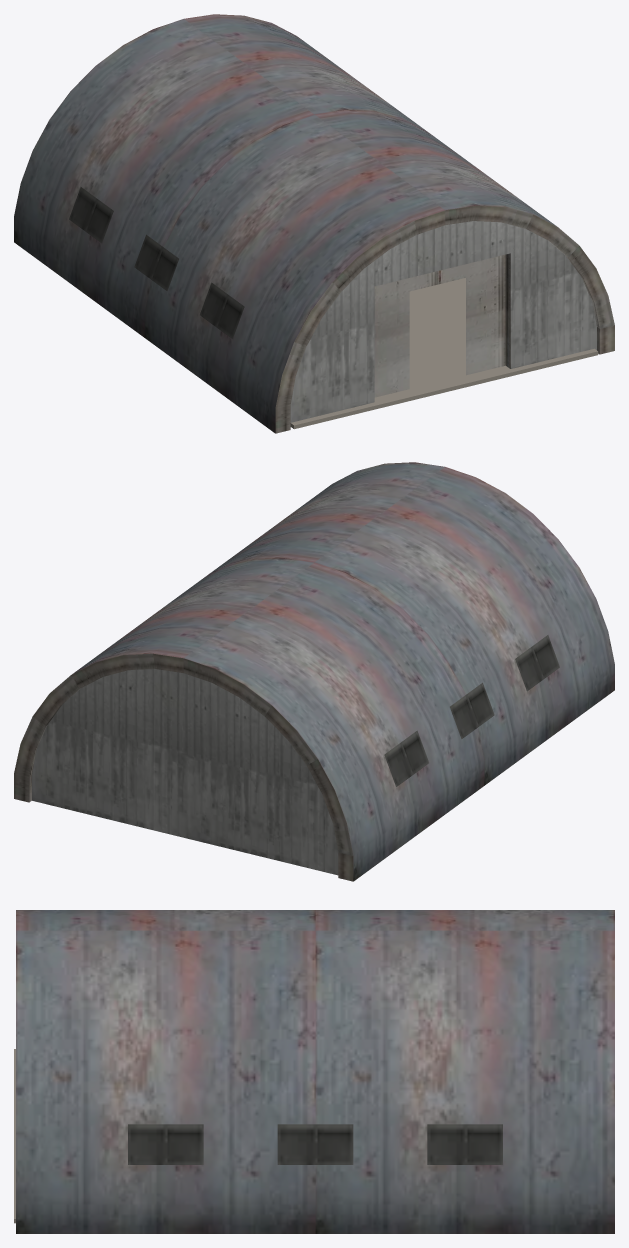
Rendered from rural-quonset.access-v2.lod0.glb.
3 views of the same model, one above another, from view 1: azimuth 30°, elevation 25°; view 2: azimuth 150°, elevation 25°; view 3: azimuth 270°, elevation 25° (orthographic). The views are drawn at different scales.
Visible parts, largest first — view 1: Rural_QuonsetHut_1_Rural_Industrial_Walls_FLR_1_0, Walkable floors and stairs; view 2: Rural_QuonsetHut_1_Rural_Industrial_Walls_FLR_1_0; view 3: Rural_QuonsetHut_1_Rural_Industrial_Walls_FLR_1_0.
Boxes of the visible parts, x1,y1,x2,y2 form: Rural_QuonsetHut_1_Rural_Industrial_Walls_FLR_1_0: (14, 14, 614, 433); Walkable floors and stairs: (290, 278, 598, 429); Rural_QuonsetHut_1_Rural_Industrial_Walls_FLR_1_0: (14, 462, 614, 881); Rural_QuonsetHut_1_Rural_Industrial_Walls_FLR_1_0: (16, 910, 614, 1233).
Size of the model in its own units: 9.38 by 4.81 by 12.56.
2 materials, 1 textured.
